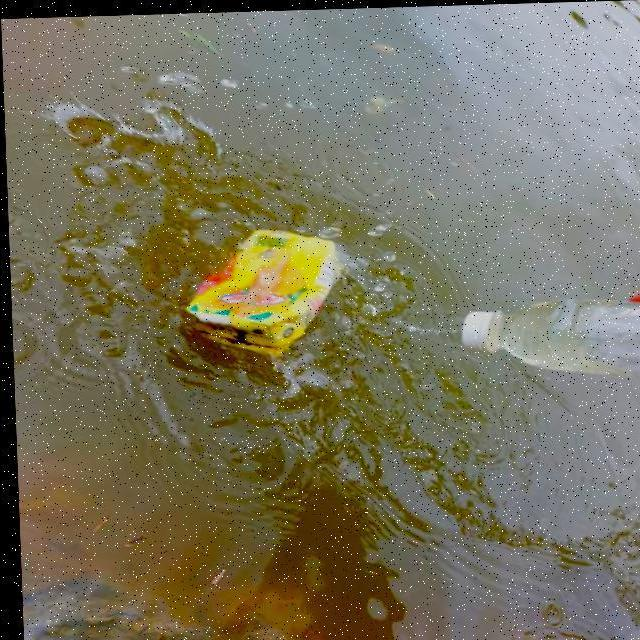Bottle: (456, 294, 640, 381)
Box: (175, 220, 358, 374)
